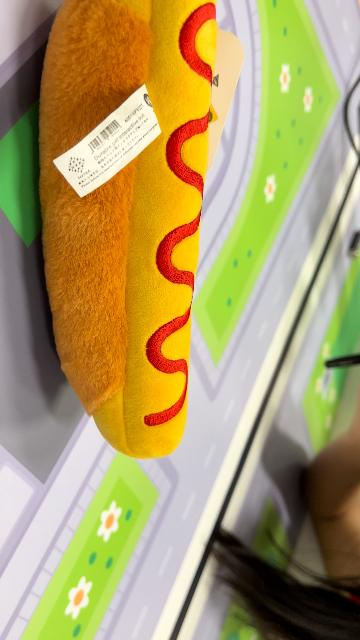hotdog: (37, 2, 220, 460)
